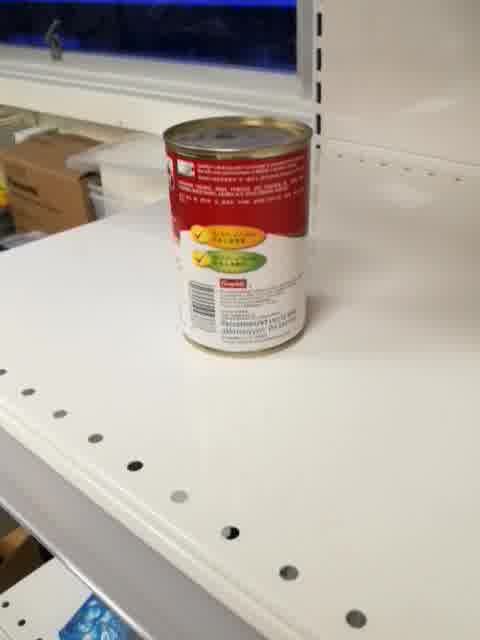tomatosoup: (161, 112, 317, 360)
